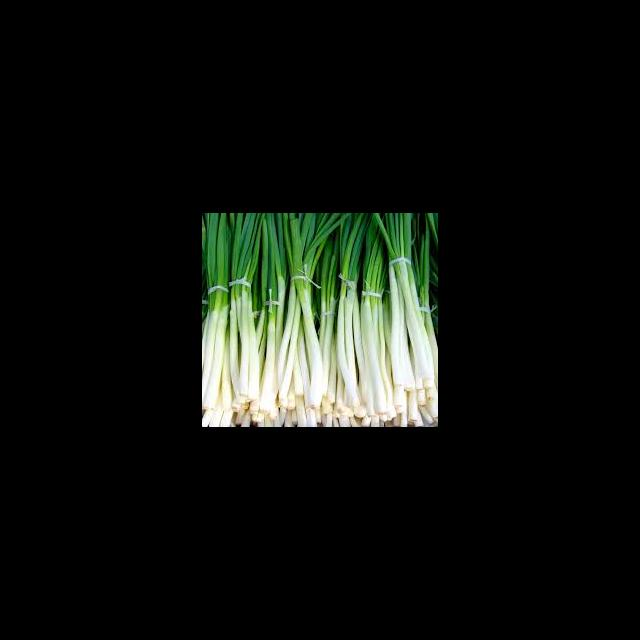green_onion: (277, 213, 331, 417), (226, 213, 264, 416), (390, 213, 429, 401), (334, 213, 370, 416), (202, 213, 236, 424), (357, 213, 390, 417)
